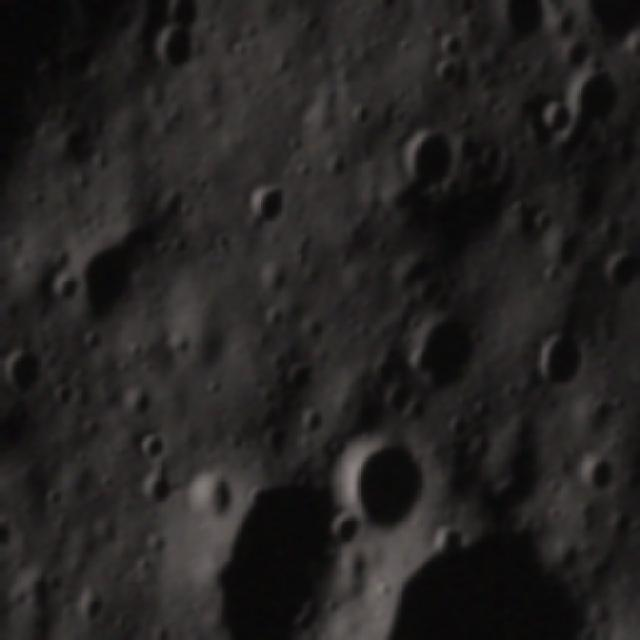crater: (342, 434, 438, 535), (62, 230, 144, 338), (396, 302, 479, 404), (388, 124, 458, 201), (233, 170, 290, 248), (547, 0, 640, 46), (484, 0, 558, 55), (529, 327, 585, 391), (595, 242, 640, 308), (181, 468, 230, 526), (572, 448, 620, 503), (129, 471, 180, 520), (0, 342, 40, 404), (150, 33, 198, 81), (325, 510, 370, 556), (531, 96, 577, 141), (129, 423, 174, 466), (278, 356, 320, 399), (70, 585, 108, 630), (158, 0, 204, 34), (428, 59, 461, 98), (439, 25, 470, 60), (0, 510, 15, 563)
